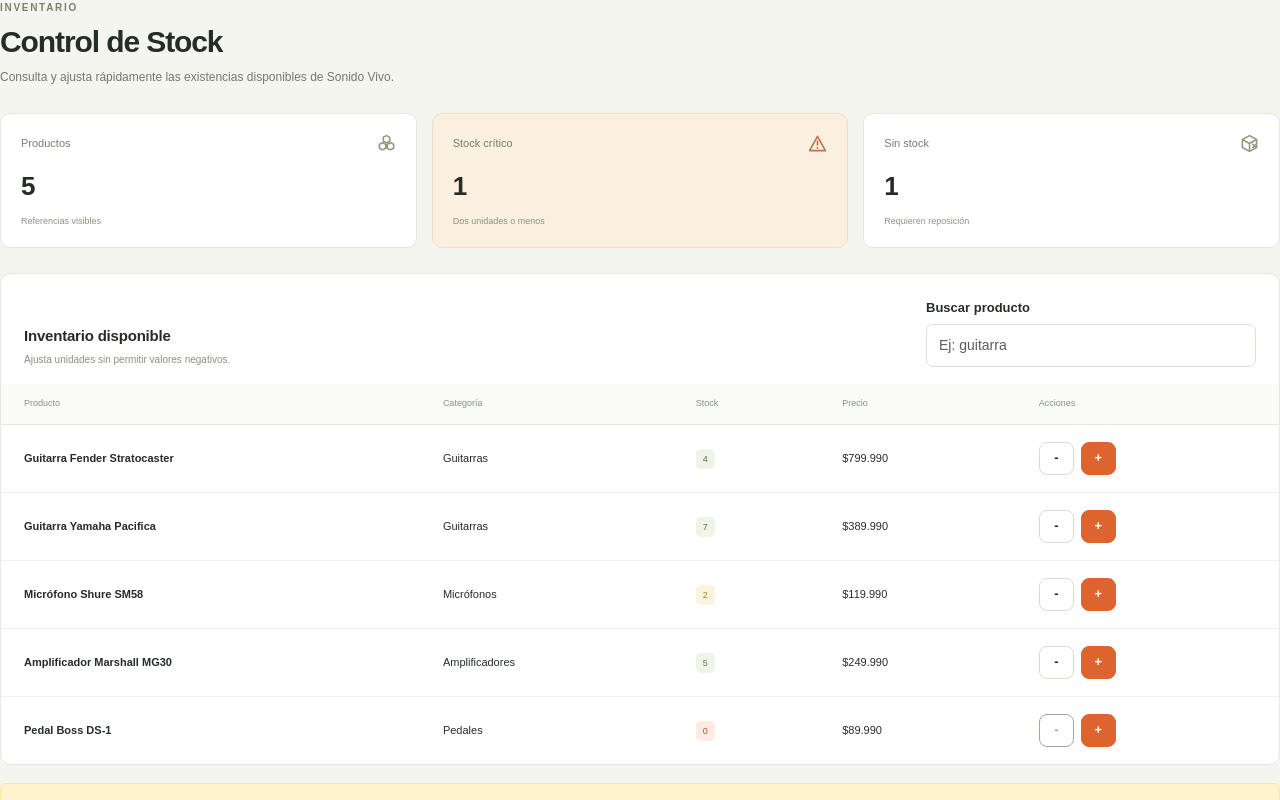
ControlStockPage integrado › permite buscar productos
Type "Shure" into the field with placeholder "Ej: guitarra" at (1091, 346), box [926,324,1256,367]
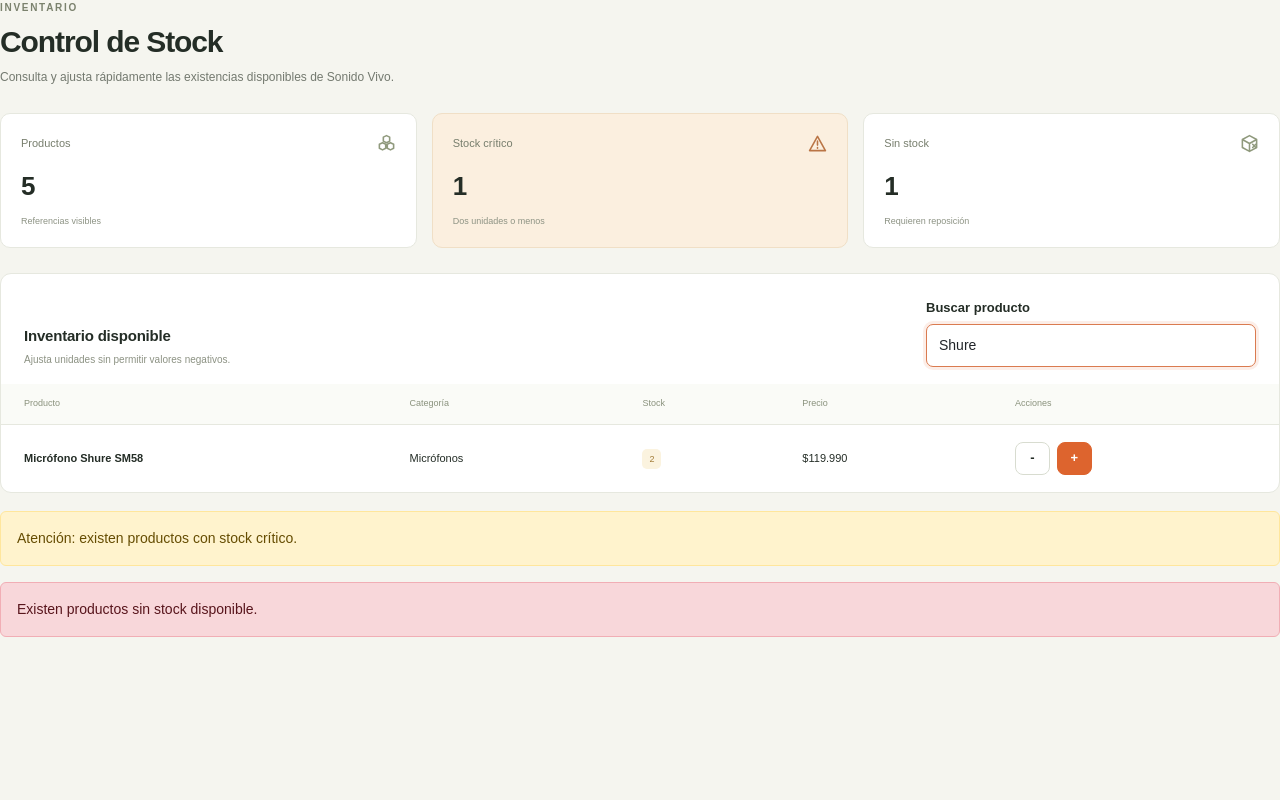
expect the text "Micrófono Shure SM58" is shown: met, box [24,452,143,464]
expect the text "Guitarra Fender Stratocaster" is gone: met
